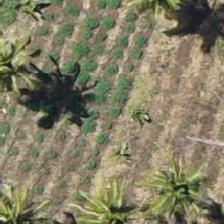coconut_tree: (137, 147, 223, 223), (0, 13, 51, 103), (67, 174, 157, 223), (0, 177, 53, 223)
